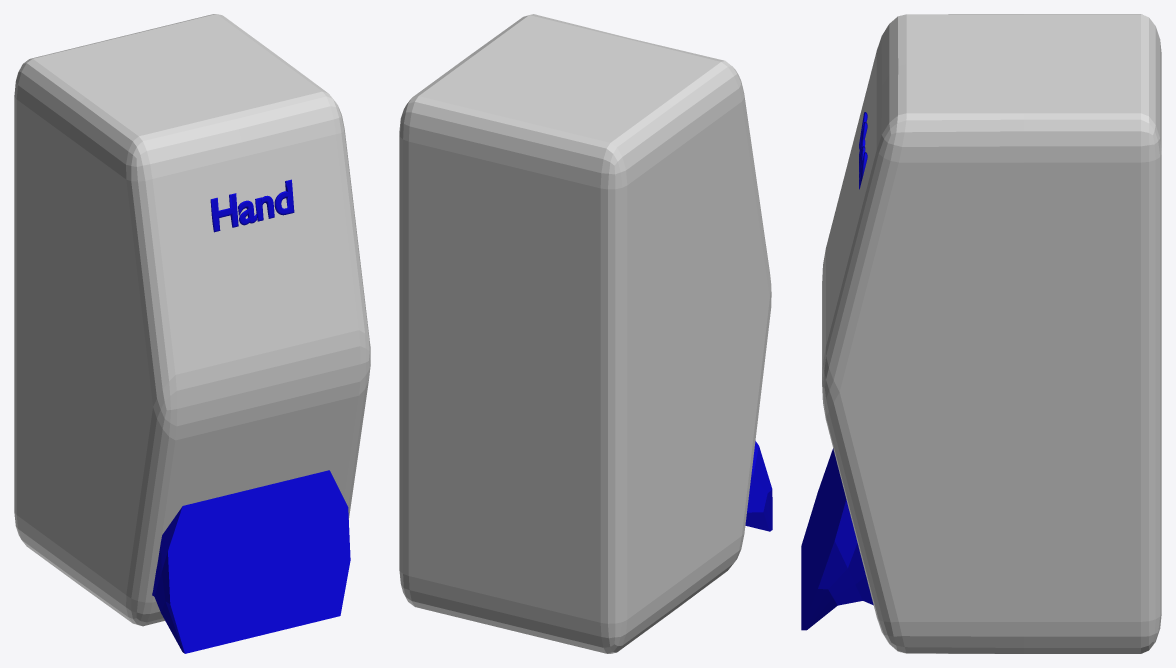
Rendered from HandSoap.fbx.
3 views of the same model, side by side, from view 1: azimuth 30°, elevation 25°; view 2: azimuth 150°, elevation 25°; view 3: azimuth 270°, elevation 25° (orthographic). The views are drawn at different scales.
Parts seen in each view (by area): view 1: HandSoap, Text.001; view 2: HandSoap; view 3: HandSoap.
Part boxes in pixels (bbox=[...]): HandSoap: bbox=[14, 14, 370, 653]; Text.001: bbox=[210, 179, 294, 232]; HandSoap: bbox=[399, 14, 772, 653]; HandSoap: bbox=[801, 14, 1161, 653].
Size of the model in its own units: 17.78 by 23.26 by 38.47.
